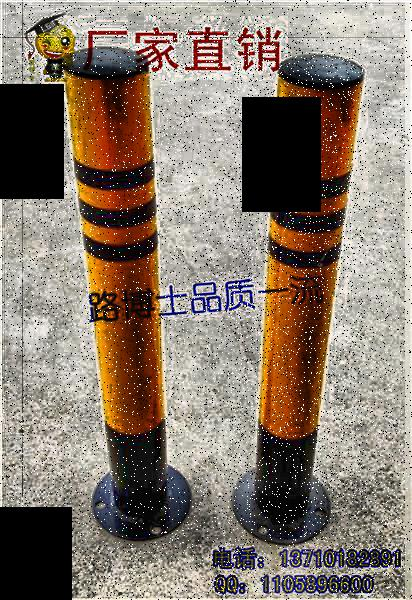bench: (229, 47, 364, 542)
